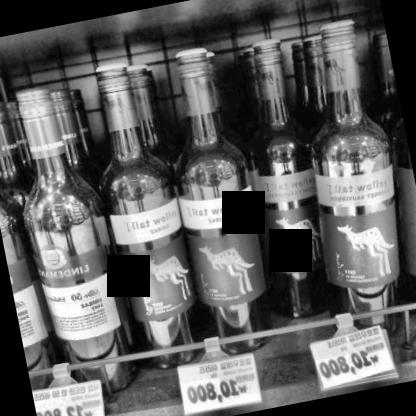yellowtail: (110, 197, 200, 332), (180, 186, 272, 316)
